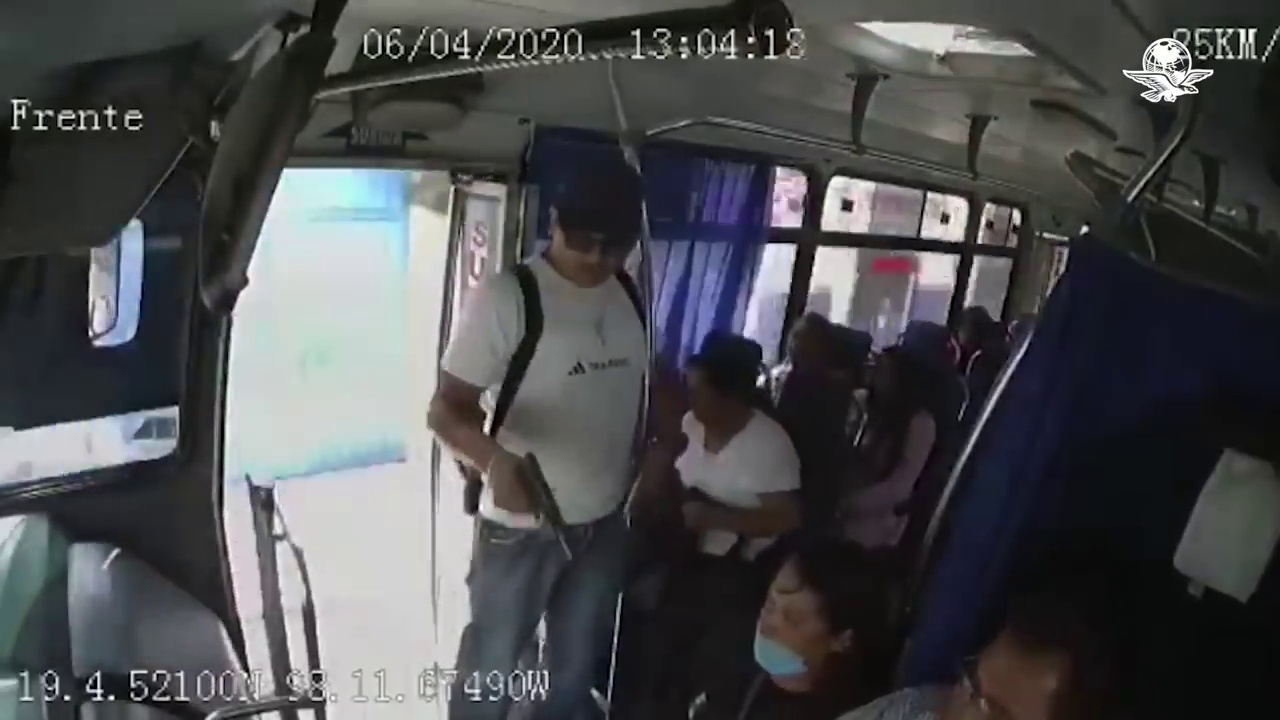pistol: (511, 447, 579, 563)
